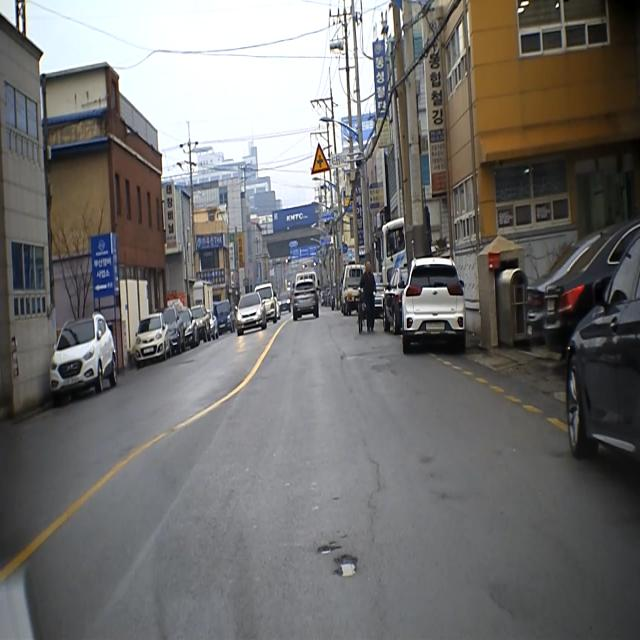Pothole: (316, 532, 365, 591)
